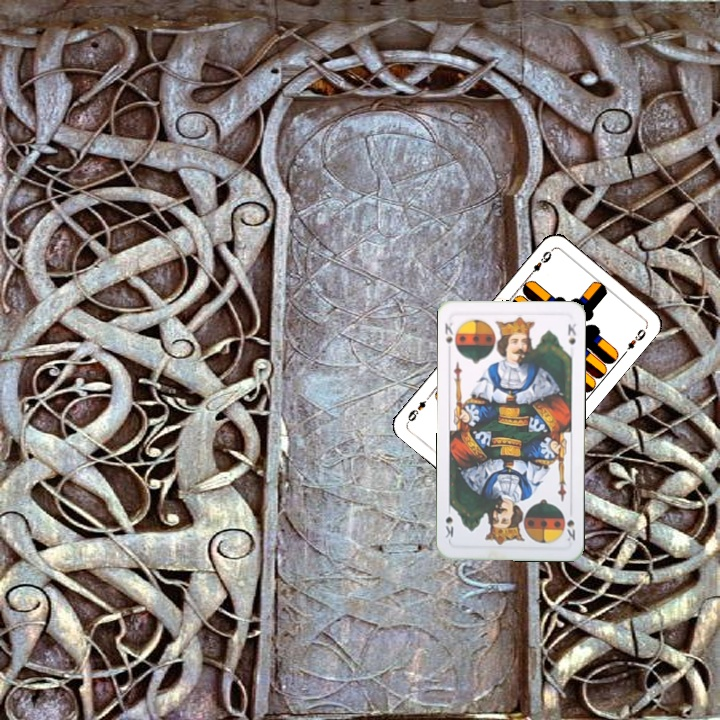E9: (524, 246, 555, 279)
SK: (560, 510, 578, 544), (440, 318, 456, 347)
